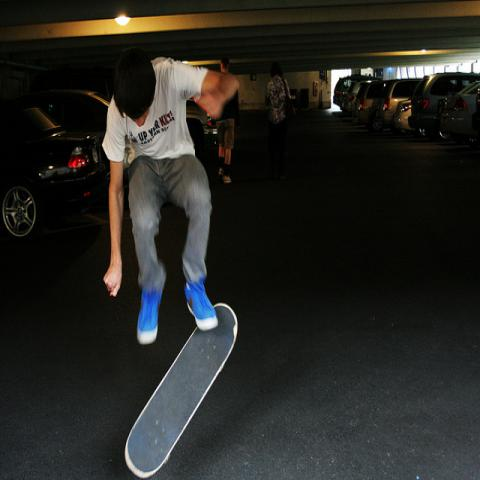car: (0, 103, 107, 246), (408, 72, 479, 139), (29, 88, 109, 144), (30, 65, 114, 99), (440, 81, 480, 144), (381, 77, 422, 130), (351, 77, 388, 132), (186, 97, 218, 151), (333, 75, 377, 110), (396, 100, 426, 137), (341, 80, 370, 116)
